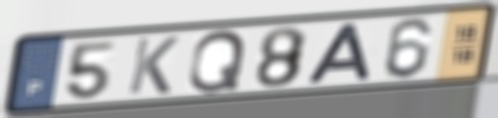5: (65, 38, 120, 100)
6: (381, 14, 435, 83)
8: (255, 25, 309, 89)
A: (302, 21, 375, 87)
K: (125, 35, 182, 97)
Q: (185, 28, 249, 96)
